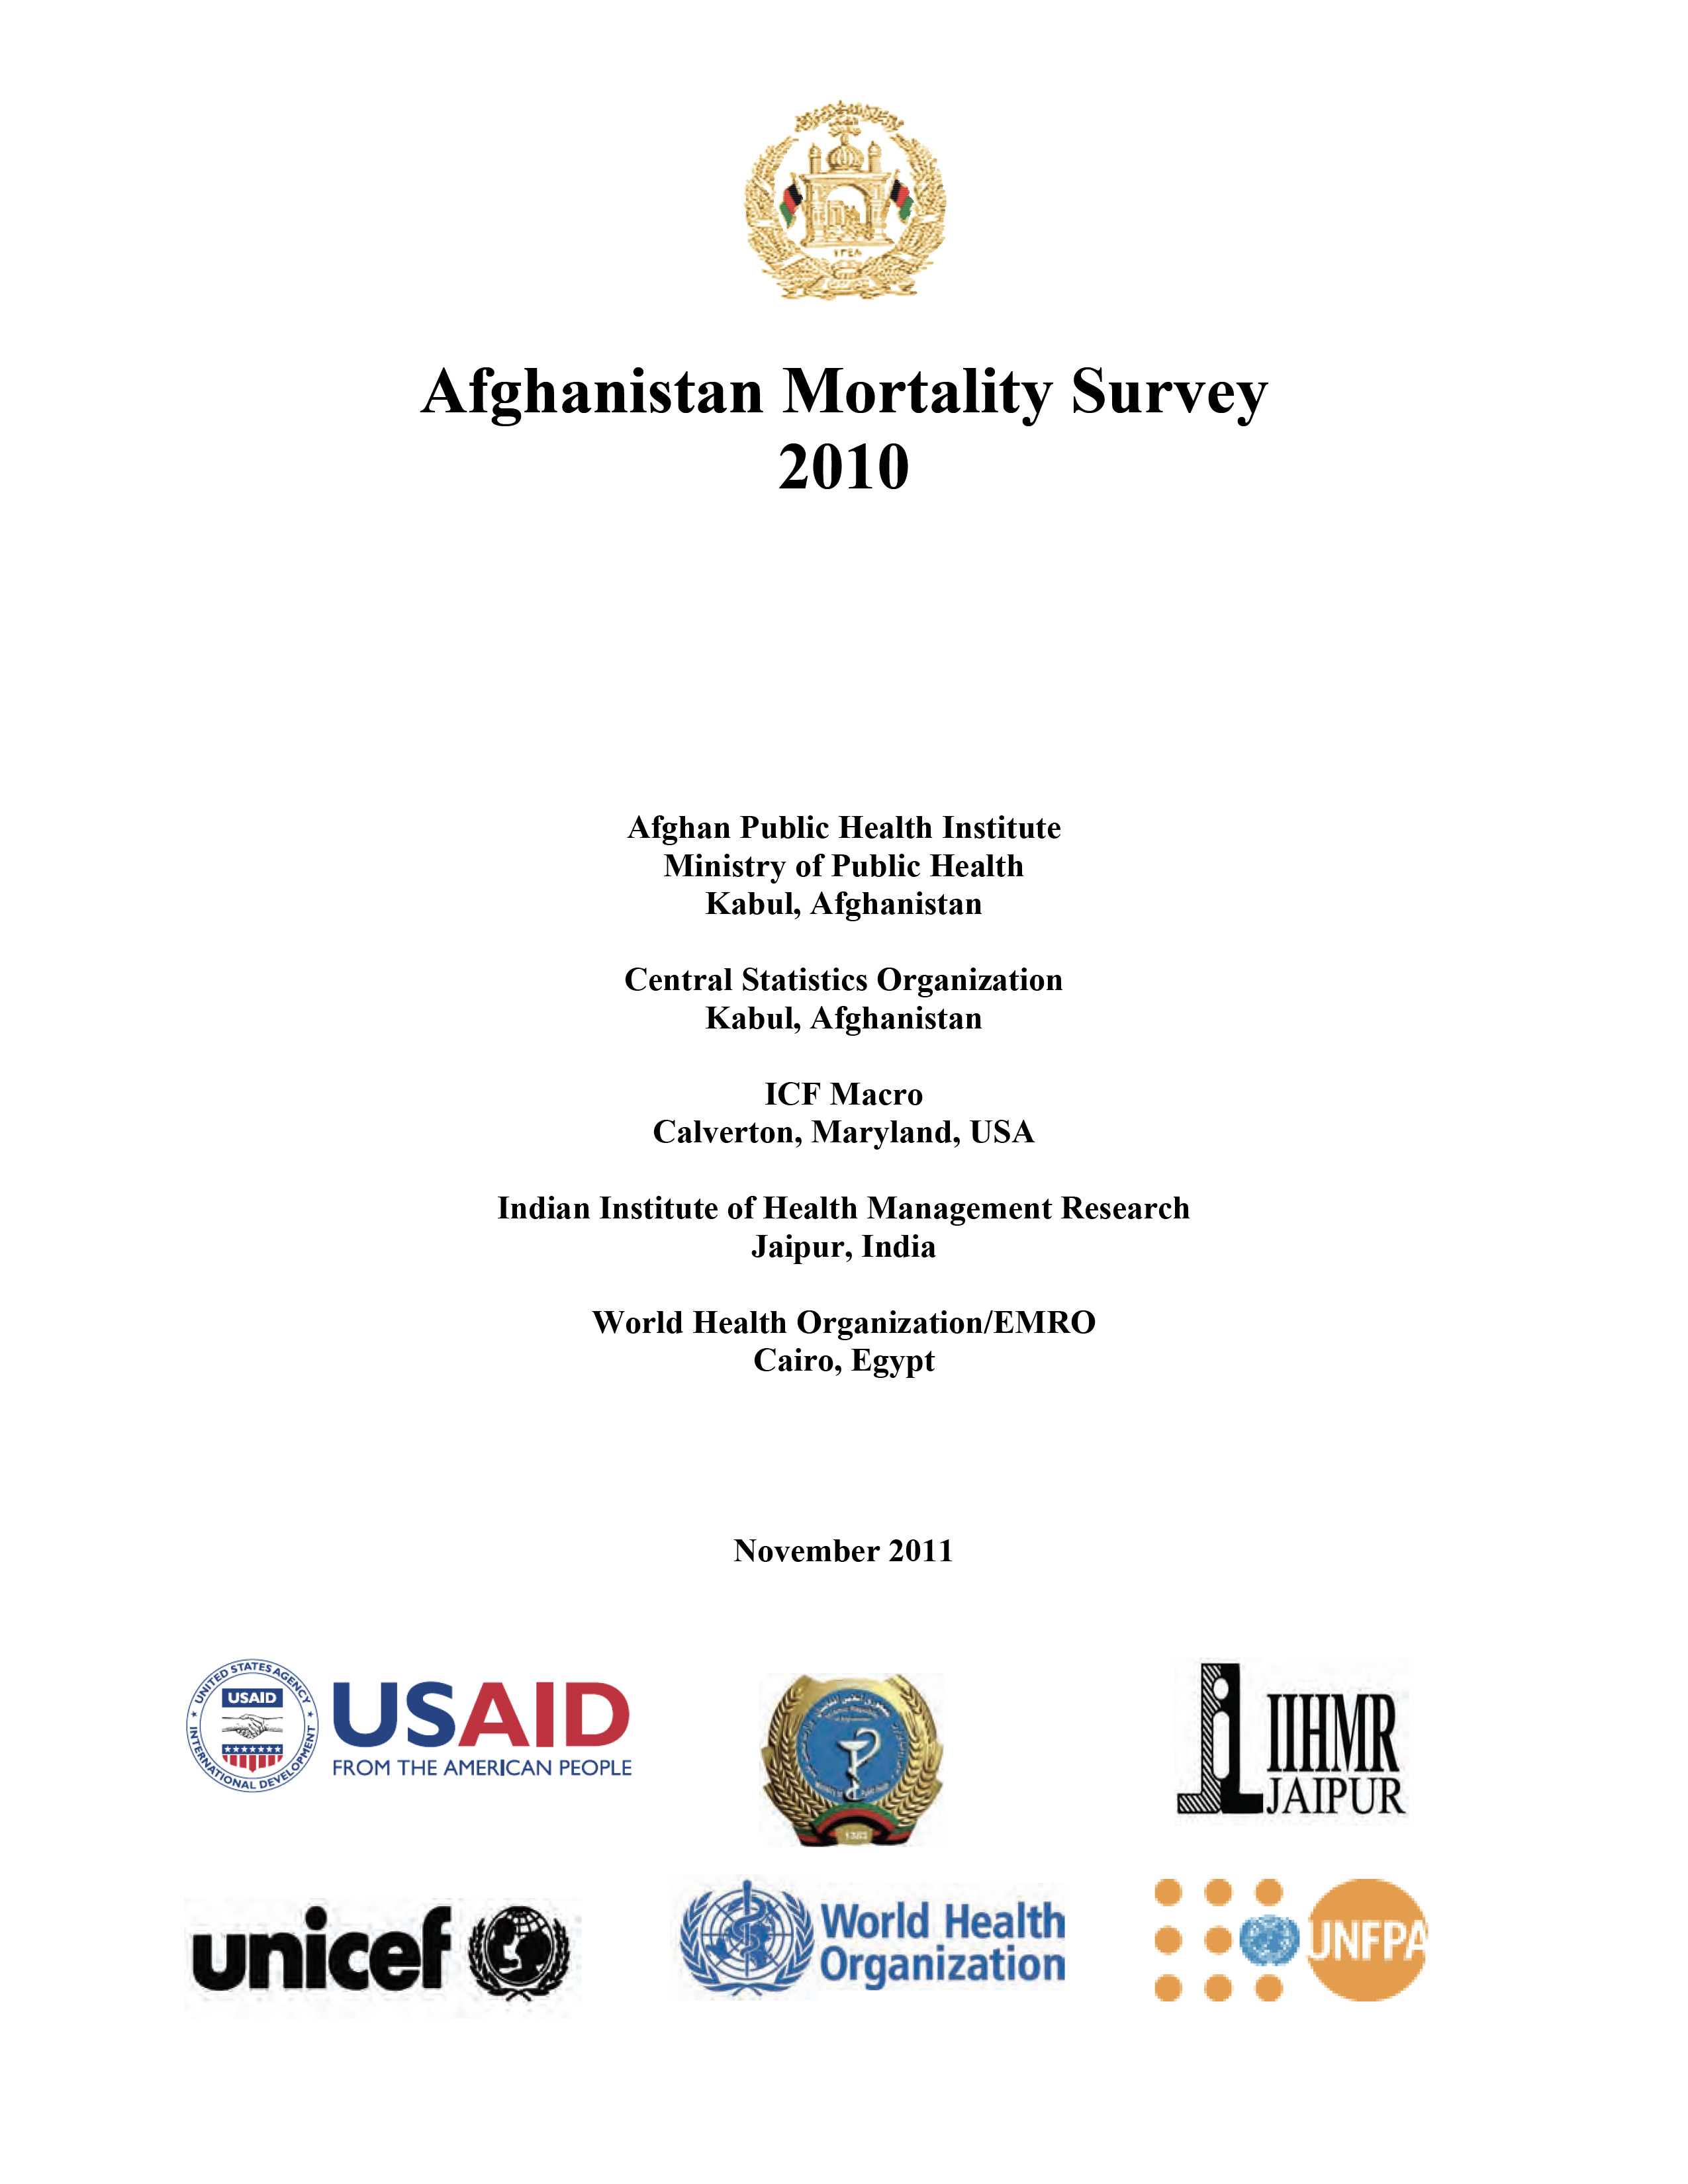figure: (723, 80, 970, 316), (1126, 1861, 1429, 2024), (752, 1645, 959, 1838), (174, 1645, 330, 1801), (676, 1865, 805, 2024)
section: (406, 342, 1286, 489)
text: (534, 792, 1165, 1406), (333, 1654, 649, 1794), (181, 1891, 449, 2028), (812, 1893, 1062, 1998), (1252, 1688, 1429, 1835), (720, 1509, 970, 1599)
